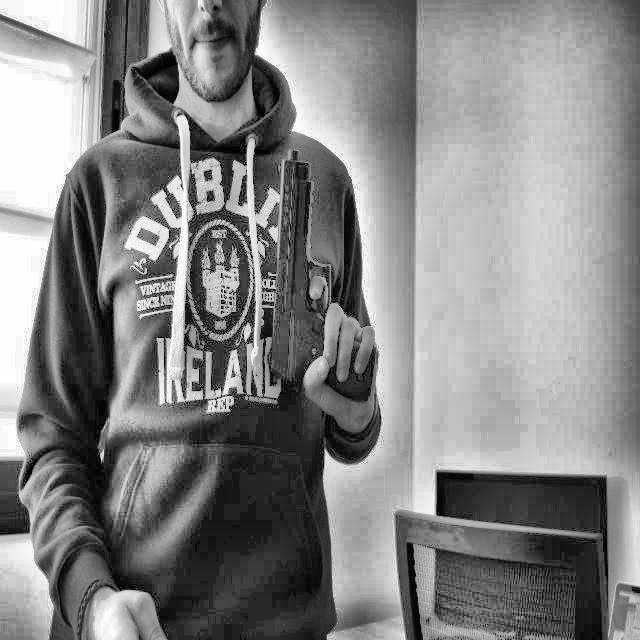pistol: (259, 137, 388, 402)
